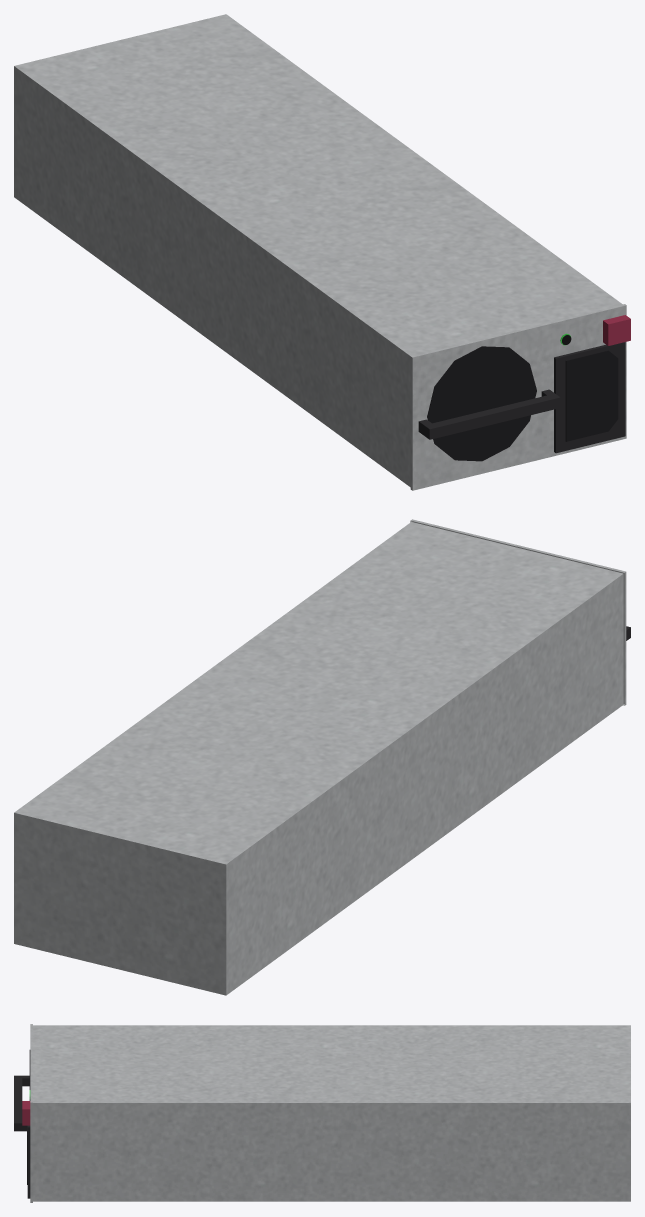
File: 865408-B21.far.glb
3 renders of one model, top to bottom at view 1: azimuth 30°, elevation 25°; view 2: azimuth 150°, elevation 25°; view 3: azimuth 270°, elevation 25°, orthographic. The views are drawn at different scales.
Visible parts, largest first — view 1: PSU_far; view 2: PSU_far; view 3: PSU_far.
Boxes of the visible parts, x1,y1,x2,y2 form: PSU_far: (14,14,630,490); PSU_far: (14,519,630,995); PSU_far: (14,1024,630,1202).
Bounding box in the file's own units: 0.068 × 0.0404 × 0.2256.
3 materials, 2 textured.
